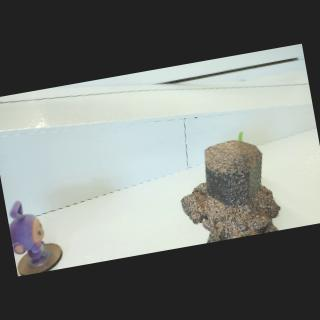teletubby: (9, 201, 44, 263), (238, 132, 243, 141)
